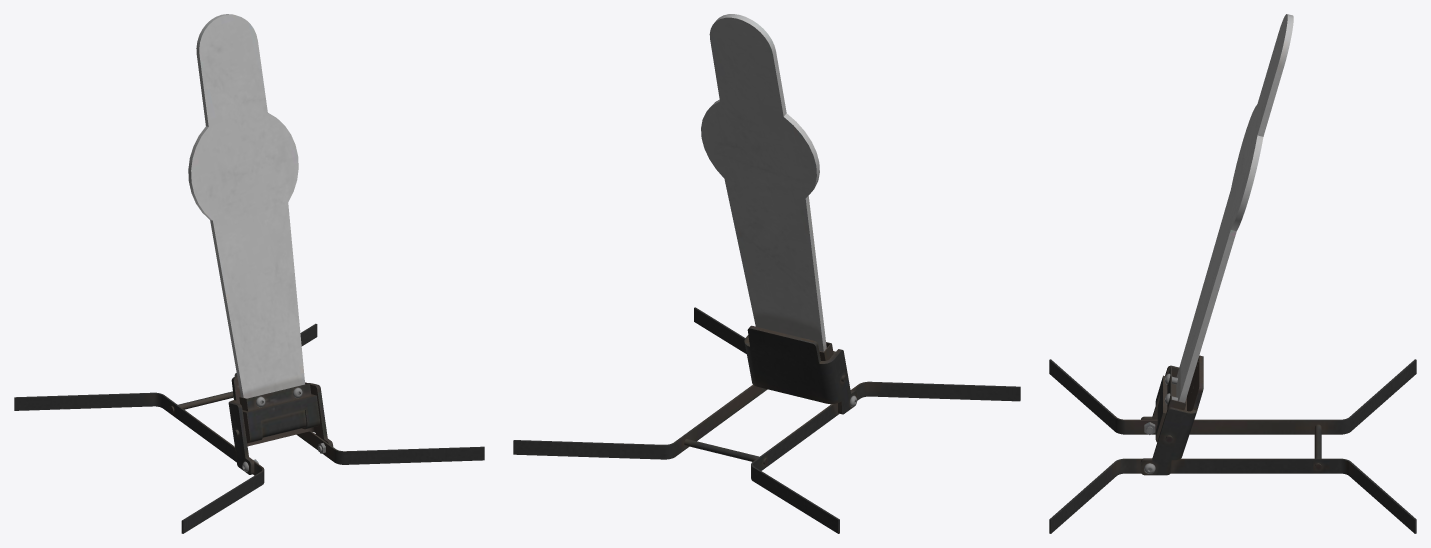
The model's file is popper.gltf.
3 views of the same model, side by side, from view 1: azimuth 30°, elevation 25°; view 2: azimuth 150°, elevation 25°; view 3: azimuth 270°, elevation 25° (orthographic). The views are drawn at different scales.
Visible parts, largest first — view 1: Target, Stand; view 2: Target, Stand; view 3: Stand, Target.
Part boxes in pixels (x1,y1,x2,y2): Target: (188, 14, 319, 443); Stand: (14, 323, 484, 533); Target: (701, 14, 835, 360); Stand: (513, 307, 1020, 533); Stand: (1049, 355, 1416, 533); Target: (1155, 14, 1293, 442).
Bounding box in the file's own units: 0.5774 × 0.7314 × 0.5584.
Materials: 1 (1 with a texture image).
